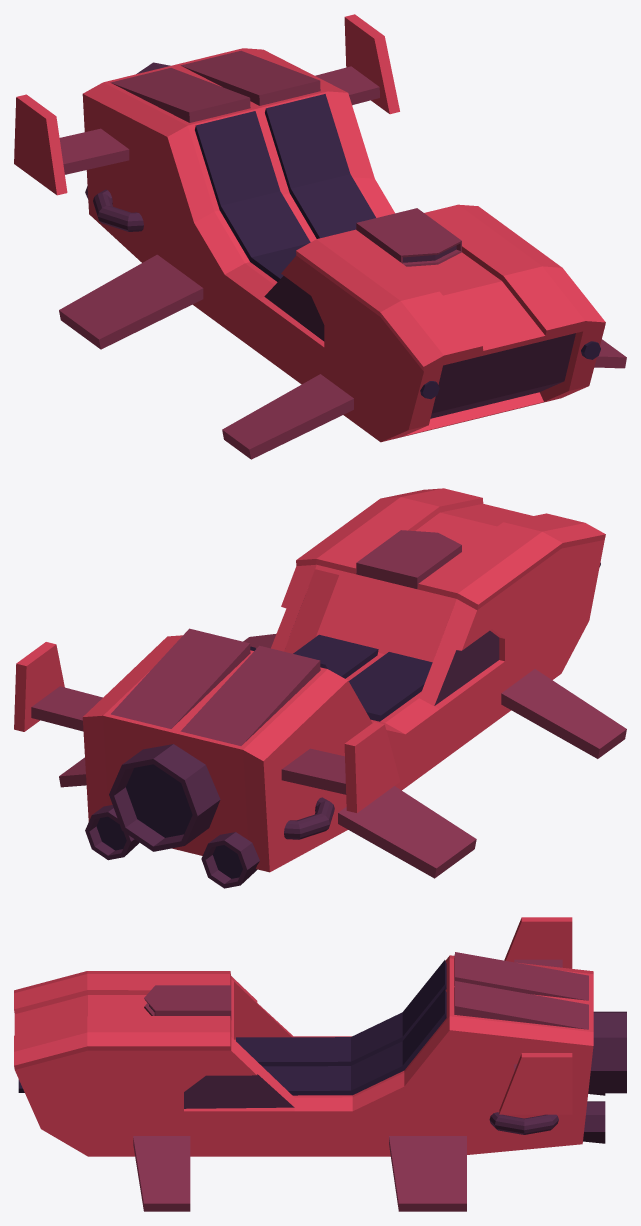
Rendered from hovercar2.fbx.
The picture shows the model from 3 angles, top to bottom: view 1: azimuth 30°, elevation 25°; view 2: azimuth 150°, elevation 25°; view 3: azimuth 270°, elevation 25°; orthographic projection. The views are drawn at different scales.
Parts seen in each view (by area): view 1: Cube; view 2: Cube; view 3: Cube.
Part boxes in pixels (bbox=[...]): Cube: bbox=[14, 14, 626, 459]; Cube: bbox=[14, 488, 626, 888]; Cube: bbox=[14, 917, 626, 1211].
Size of the model in its own units: 254 by 118 by 421.
